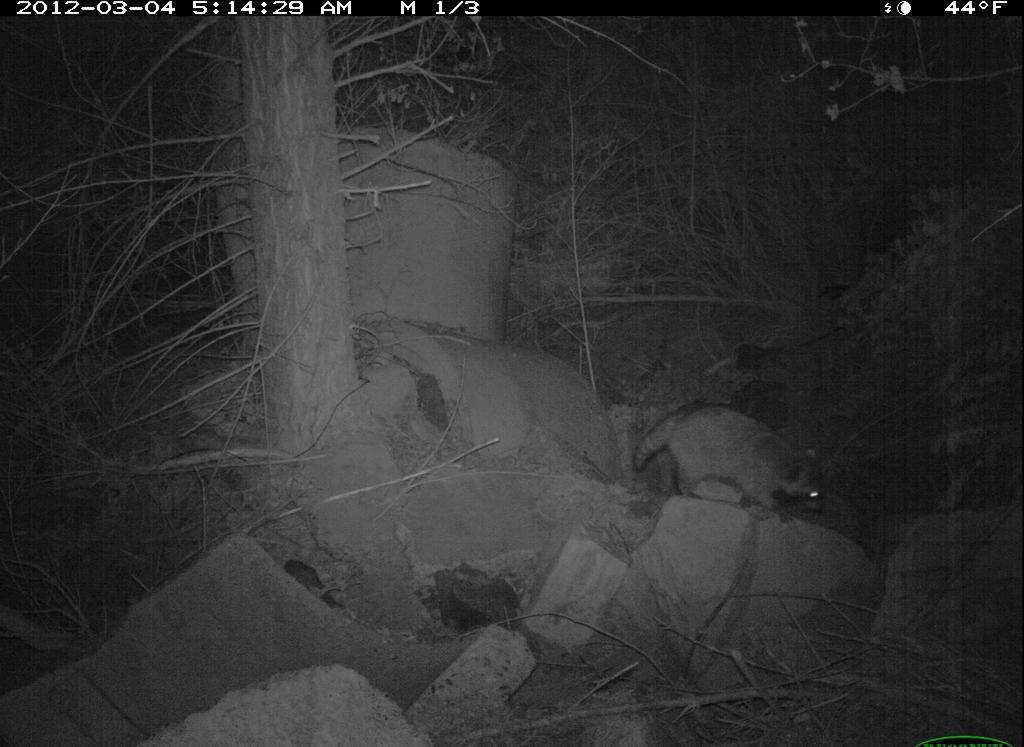raccoon: (629, 390, 840, 525)
